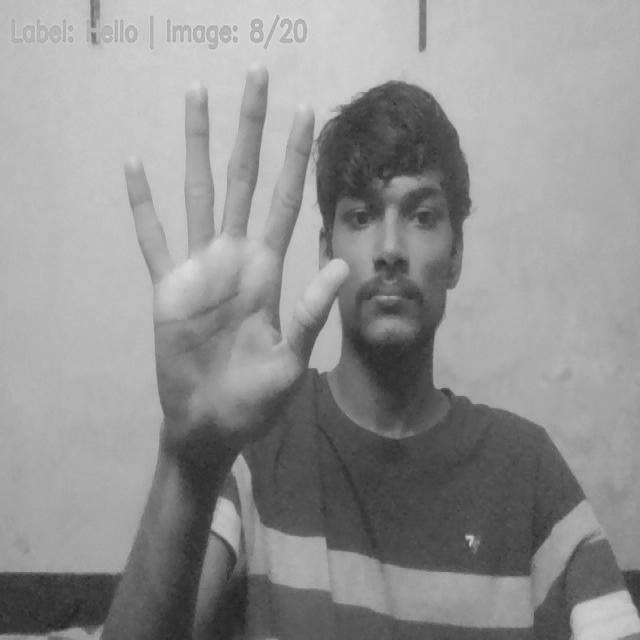Hello: (119, 60, 353, 435)
